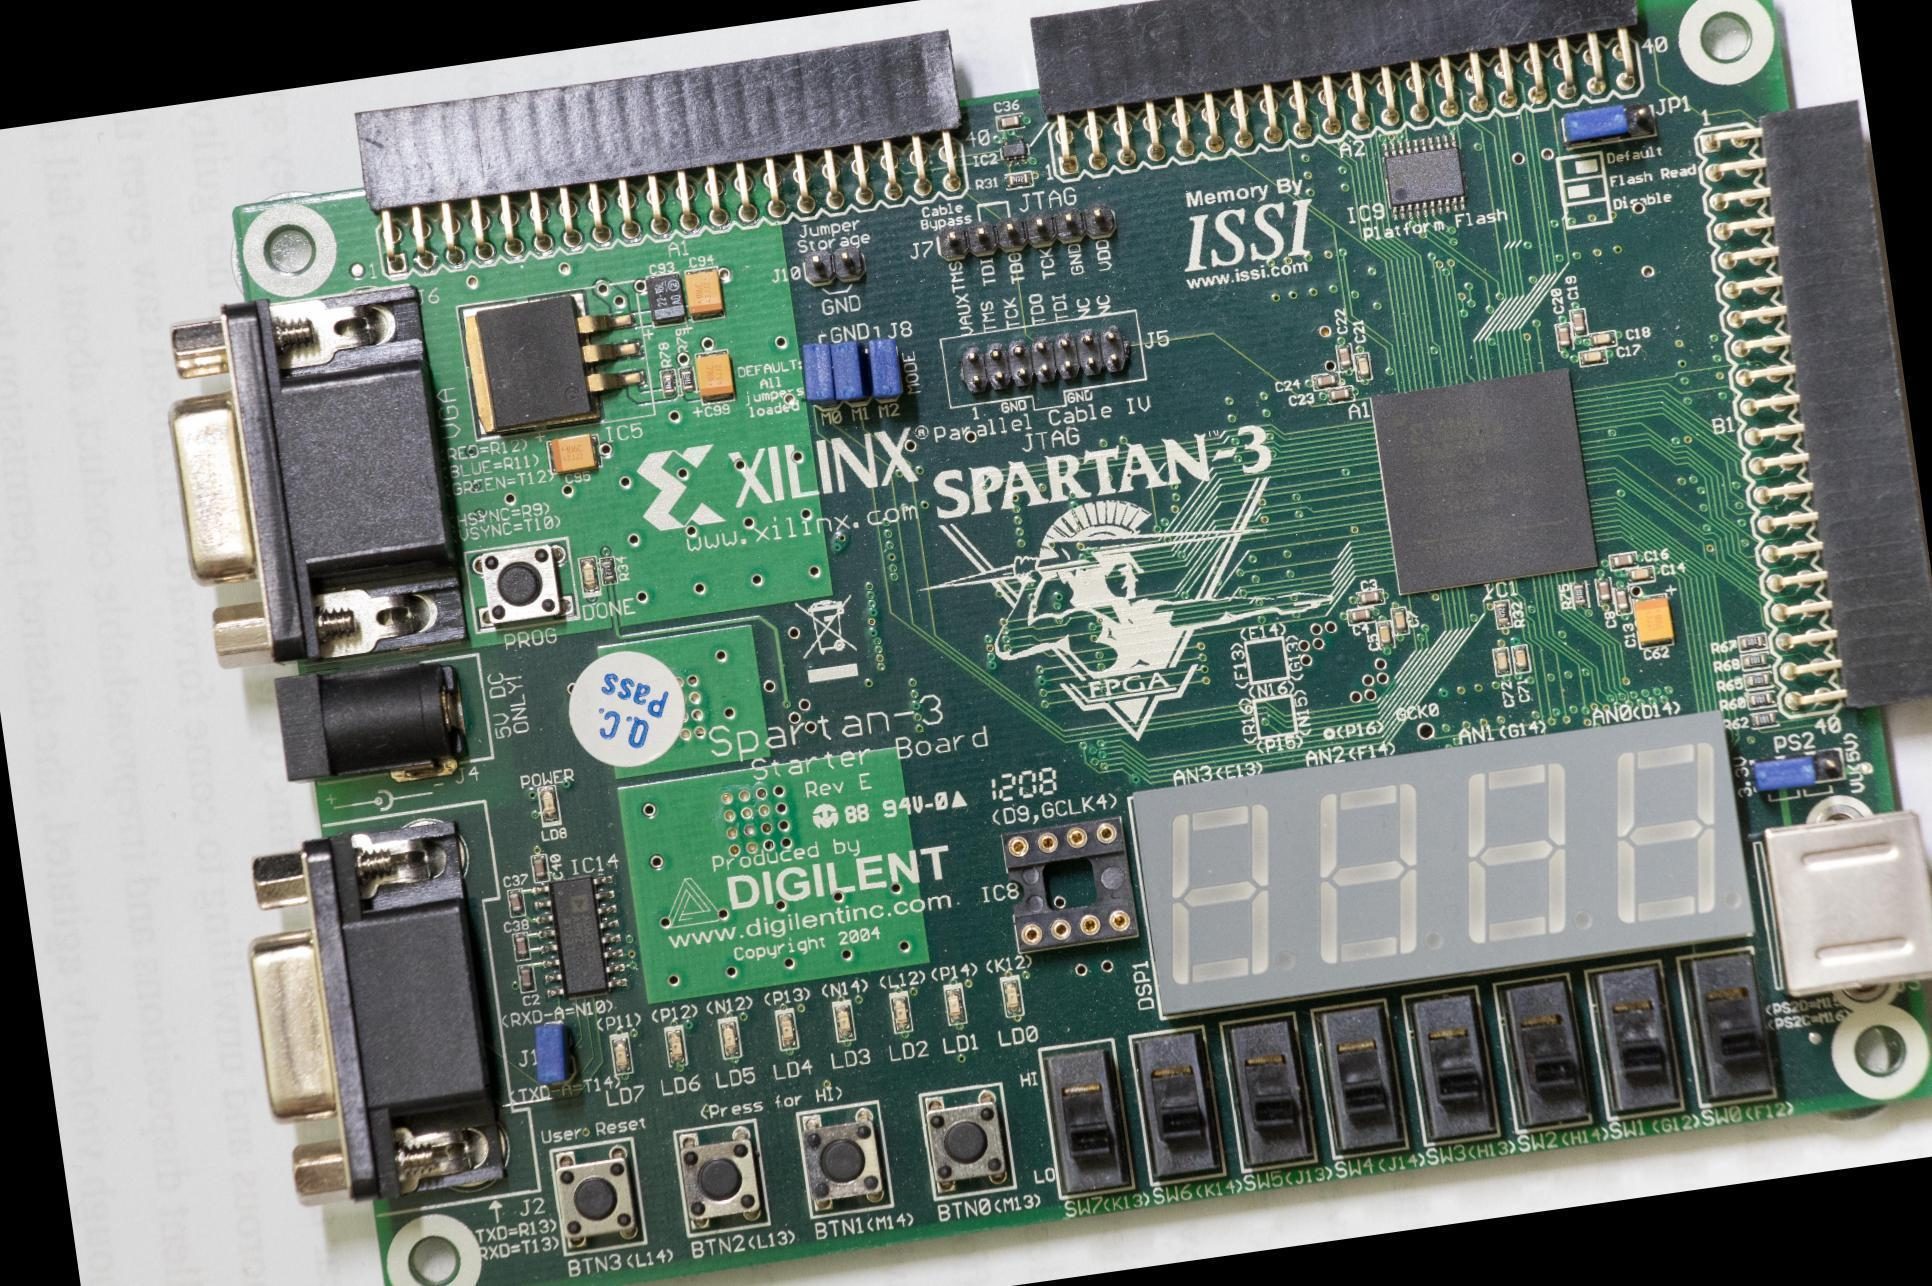Button: (552, 1137, 648, 1256), (673, 1121, 769, 1237), (464, 539, 578, 635), (920, 1084, 1015, 1199), (798, 1102, 892, 1216)
Capacitor: (1578, 347, 1609, 367), (1553, 322, 1573, 351), (1587, 330, 1618, 350), (1311, 371, 1341, 390), (1377, 620, 1396, 649), (993, 111, 1022, 130), (1493, 647, 1512, 677), (1511, 644, 1530, 674), (531, 853, 550, 883), (511, 931, 530, 961), (517, 964, 536, 994), (1612, 587, 1632, 615), (1353, 351, 1372, 381), (1628, 566, 1656, 584), (1391, 604, 1409, 633), (1595, 577, 1613, 605), (506, 888, 525, 917), (1569, 308, 1587, 336), (1336, 344, 1355, 372), (1356, 590, 1384, 608), (1346, 606, 1374, 625), (1609, 552, 1638, 570), (1326, 386, 1354, 404)
Connector: (353, 28, 972, 284), (1697, 97, 1931, 723), (224, 805, 541, 1229), (155, 280, 464, 679), (1027, 0, 1648, 181), (1755, 790, 1931, 1014), (273, 650, 493, 787), (942, 312, 1146, 408), (999, 817, 1138, 954), (933, 201, 1118, 261), (799, 246, 868, 289), (1624, 99, 1659, 141), (1812, 746, 1845, 784)
Electrolytic Capacitor: (1631, 593, 1674, 650), (683, 266, 725, 321), (644, 271, 686, 327), (695, 348, 735, 405), (546, 433, 602, 473)
IC: (1369, 368, 1598, 593), (458, 281, 657, 441), (531, 872, 630, 1002), (1379, 133, 1469, 221), (1000, 138, 1031, 164)
Led: (533, 782, 564, 829), (607, 1032, 638, 1077), (942, 982, 969, 1026), (717, 1014, 743, 1059), (888, 991, 915, 1036), (773, 1007, 799, 1053), (1001, 974, 1025, 1018), (664, 1025, 689, 1068), (577, 555, 601, 597), (832, 1000, 855, 1042)
Resistor: (1744, 690, 1777, 710), (1738, 632, 1767, 653), (1749, 711, 1779, 732), (598, 556, 618, 585), (1739, 652, 1770, 671), (1743, 670, 1773, 691), (658, 369, 678, 398), (1569, 580, 1589, 609), (1005, 170, 1033, 189), (1493, 599, 1512, 628), (680, 365, 698, 393)
Switch: (1677, 945, 1775, 1108), (1127, 1026, 1226, 1185), (1494, 973, 1592, 1132), (1588, 962, 1684, 1122), (1313, 999, 1409, 1158), (1039, 1040, 1135, 1200), (1222, 1016, 1315, 1174), (1404, 987, 1497, 1144)
